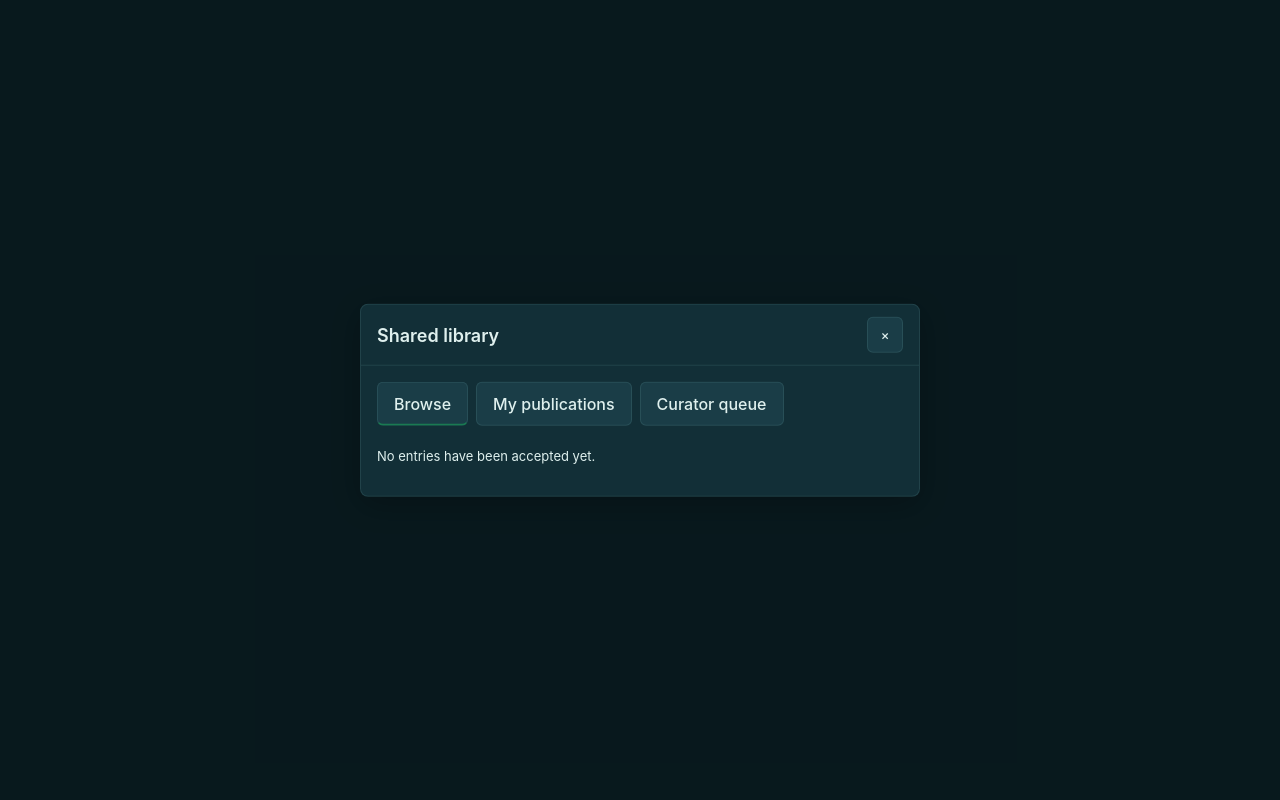
Scenario: LibraryDialog › shows a curator state race and reloads the queue
Click the tab "Curator queue": (712, 404) 640,382 -> 784,426
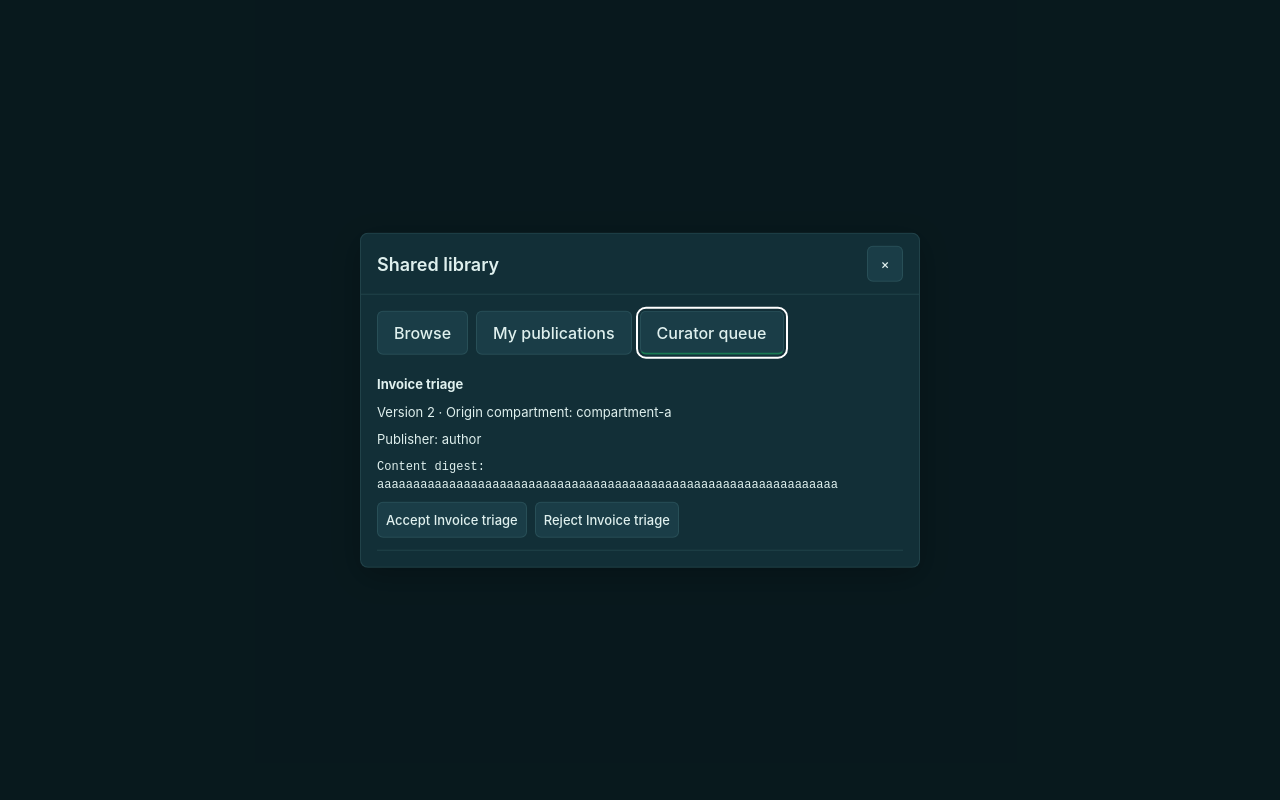
Click the button "Accept Invoice triage": (452, 519) 377,501 -> 527,537
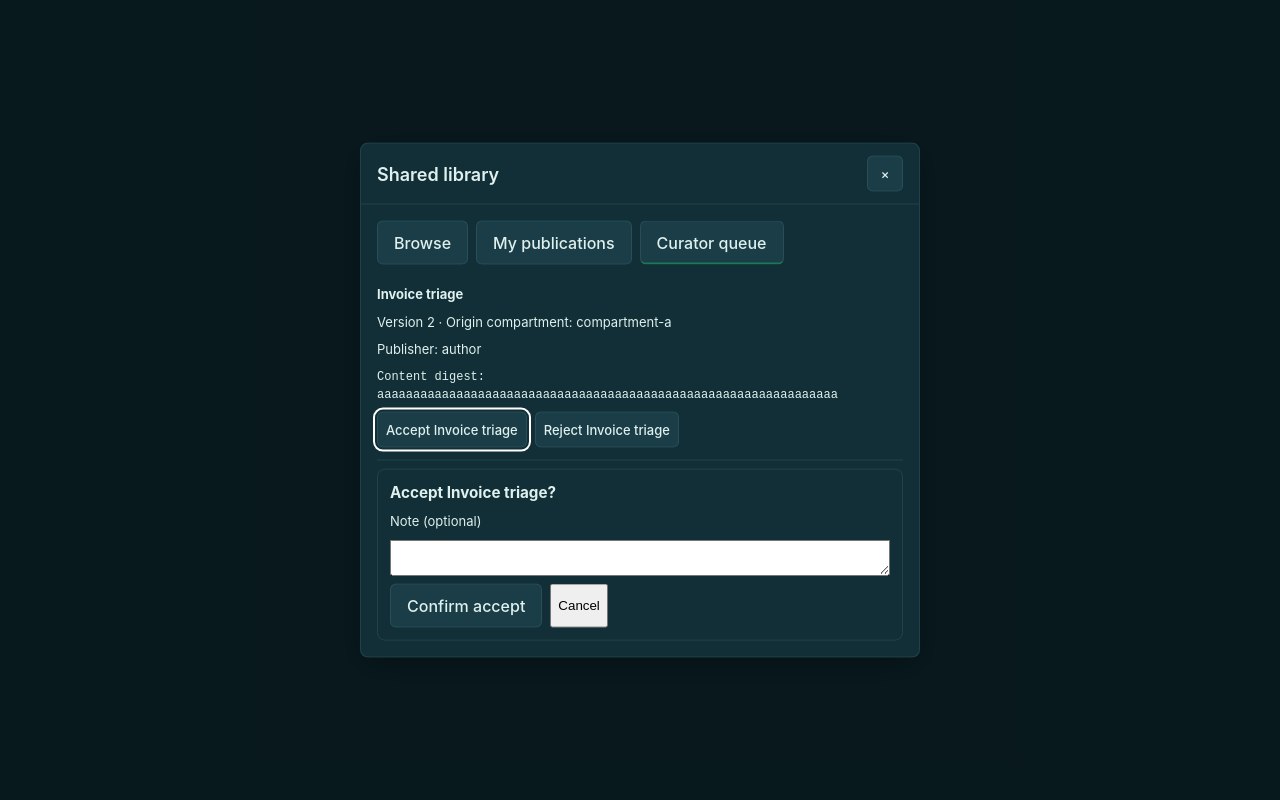
Click the button "Confirm accept": (466, 605) 390,583 -> 542,627
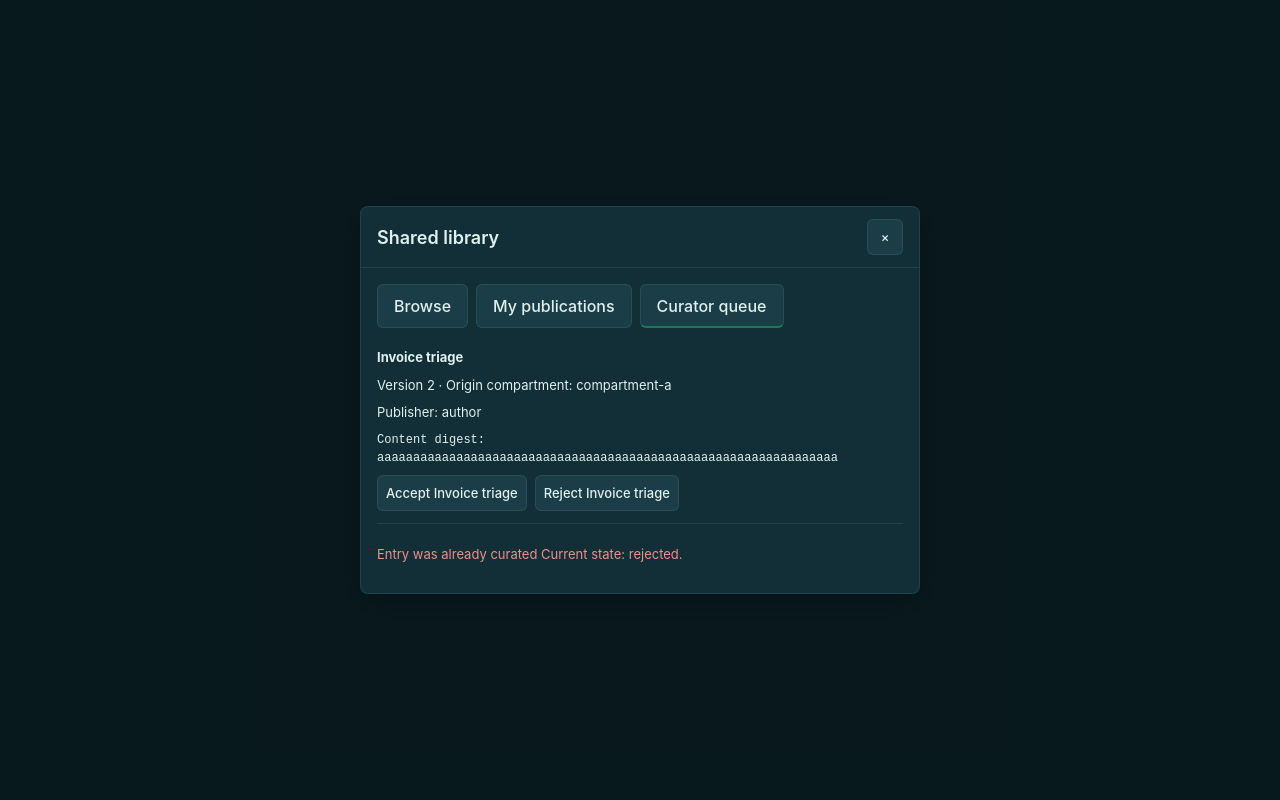
Expected: the message shows "Current state: rejected", 377,546 -> 682,562
